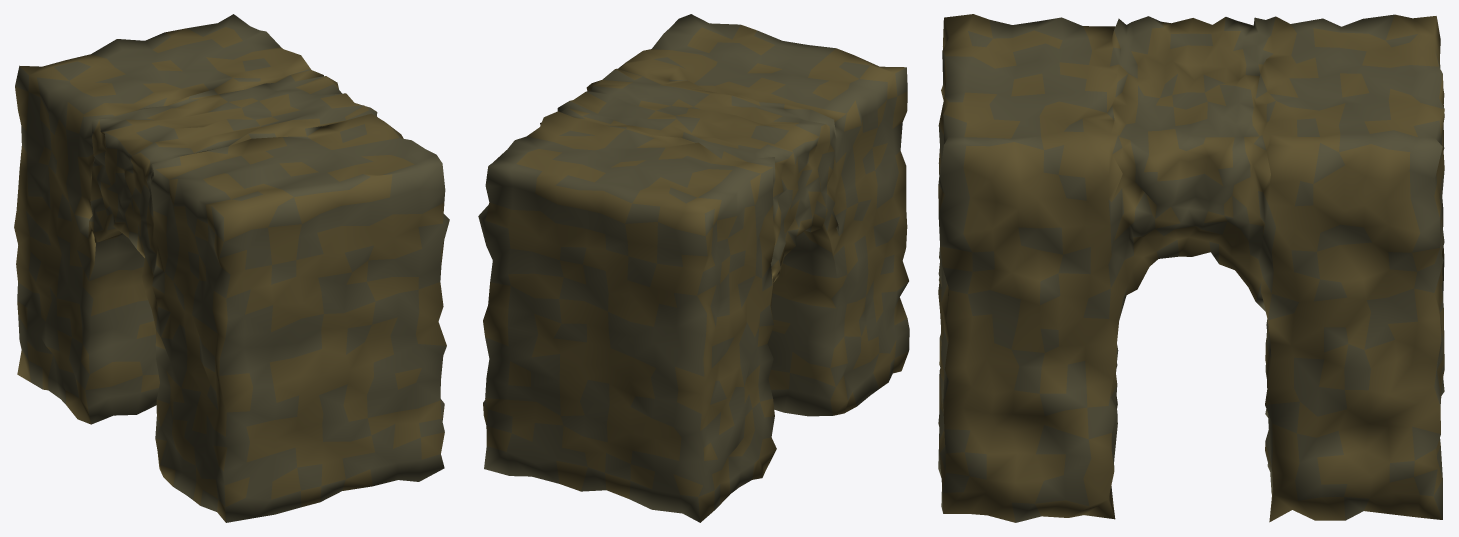
The model's file is Bridge_Bumpyish.fbx.
3 views of the same model, side by side, from view 1: azimuth 30°, elevation 25°; view 2: azimuth 150°, elevation 25°; view 3: azimuth 270°, elevation 25° (orthographic). The views are drawn at different scales.
Visible parts, largest first — view 1: Bridge_a_complex.003; view 2: Bridge_a_complex.003; view 3: Bridge_a_complex.003.
Part boxes in pixels (<box>): Bridge_a_complex.003: <box>14,14,449,522</box>; Bridge_a_complex.003: <box>478,14,909,522</box>; Bridge_a_complex.003: <box>938,14,1444,522</box>.
Bounding box in the file's own units: 6.06 × 9.22 × 7.6.
